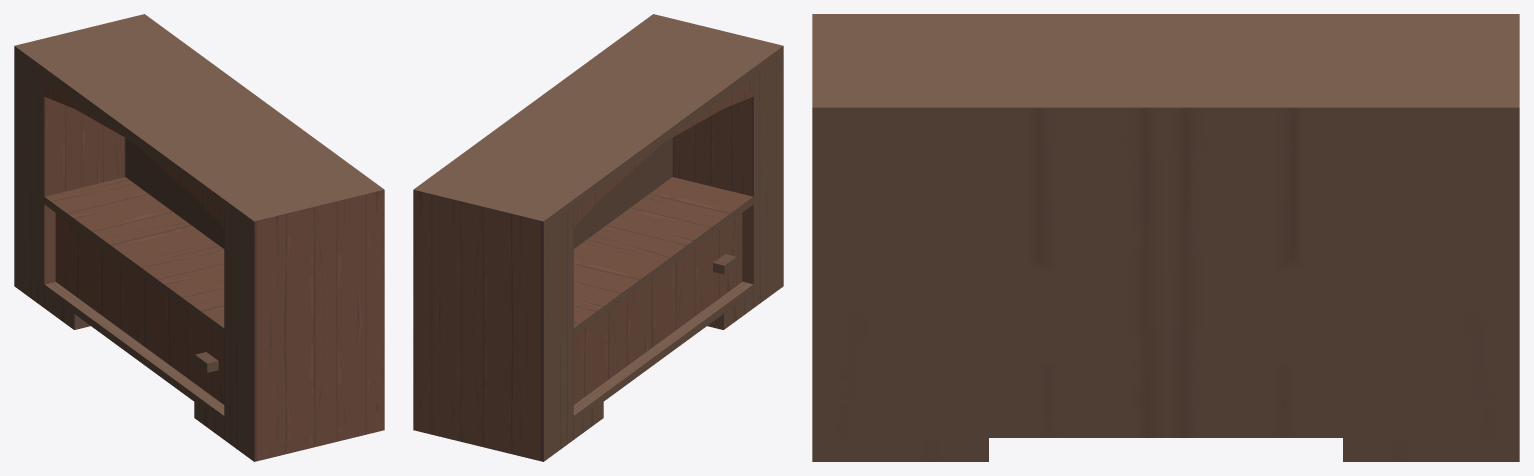
File: Mesh_Room_Bookcase_03_SM.fbx
3 views of the same model, side by side, from view 1: azimuth 30°, elevation 25°; view 2: azimuth 150°, elevation 25°; view 3: azimuth 270°, elevation 25° (orthographic). The views are drawn at different scales.
Parts seen in each view (by area): view 1: Mesh_Room_Bookcase_03; view 2: Mesh_Room_Bookcase_03; view 3: Mesh_Room_Bookcase_03.
Part boxes in pixels (box(x1,y1,x2,y2)): Mesh_Room_Bookcase_03: box(14, 14, 384, 461); Mesh_Room_Bookcase_03: box(413, 14, 783, 461); Mesh_Room_Bookcase_03: box(812, 14, 1519, 461).
Size of the model in its own units: 57.79 by 102 by 184.
